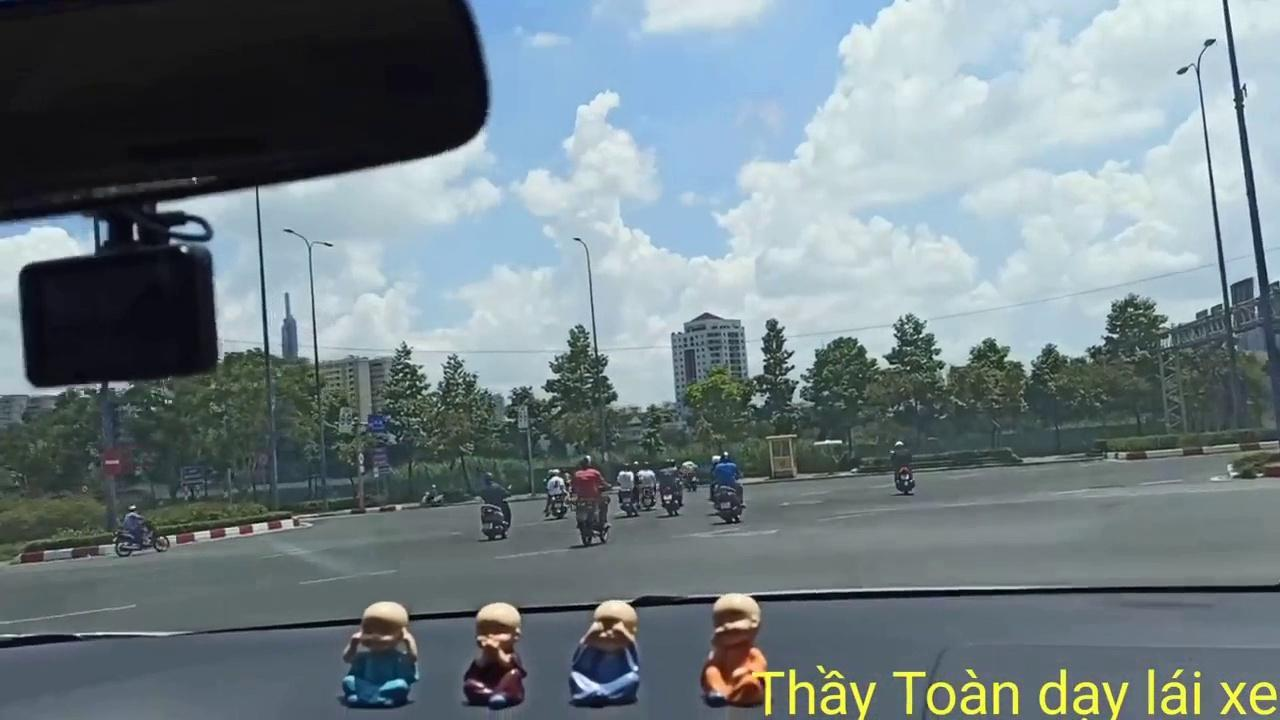Cấm cac phương tiện hoạt động trong khung giờ cố định: (339, 406, 353, 433)
Cấm đi ngược chiều: (99, 445, 128, 479)
